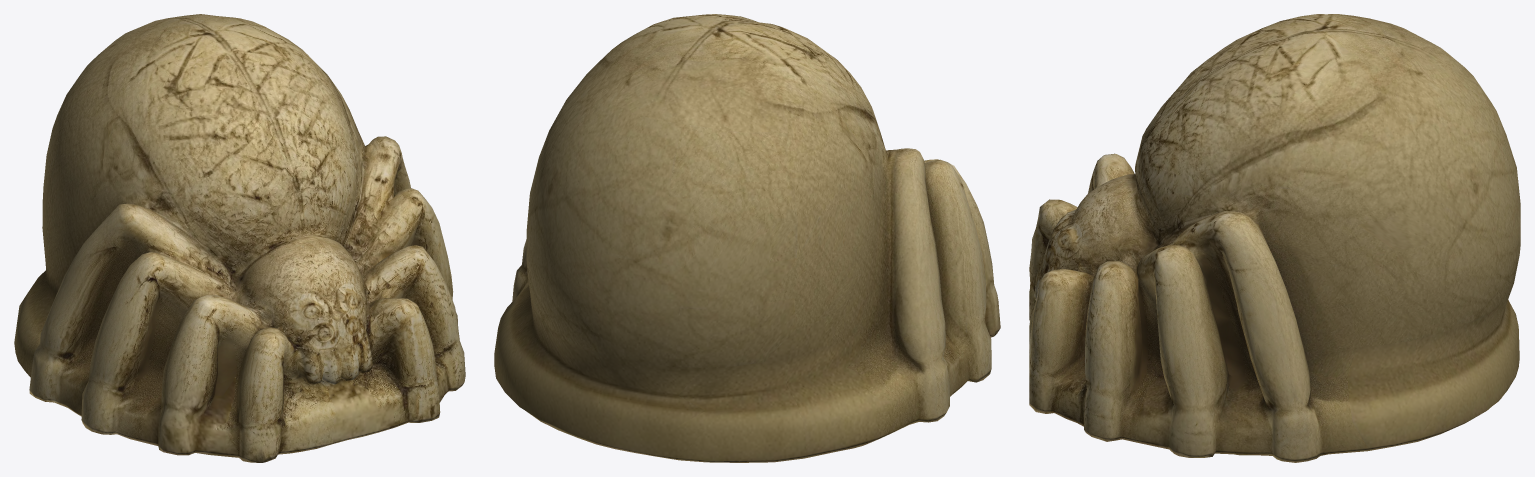
The model's file is shelob.glb.
3 renders of one model, left to right at view 1: azimuth 30°, elevation 25°; view 2: azimuth 150°, elevation 25°; view 3: azimuth 270°, elevation 25°, orthographic. The views are drawn at different scales.
Parts seen in each view (by area): view 1: mesh_node; view 2: mesh_node; view 3: mesh_node.
Part boxes in pixels (bbox=[...]): mesh_node: bbox=[14, 14, 465, 462]; mesh_node: bbox=[494, 14, 1000, 462]; mesh_node: bbox=[1029, 14, 1520, 462].
Size of the model in its own units: 0.9687 by 0.748 by 1.
Materials: 1 (1 with a texture image).
